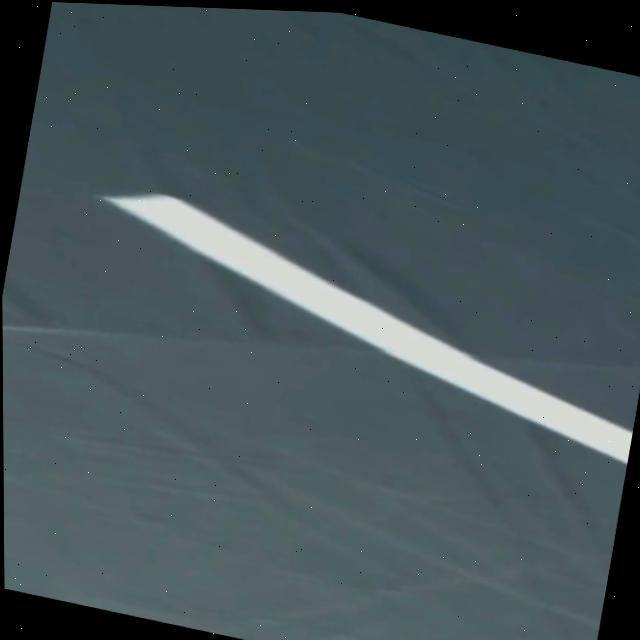center: (103, 192, 633, 462)
